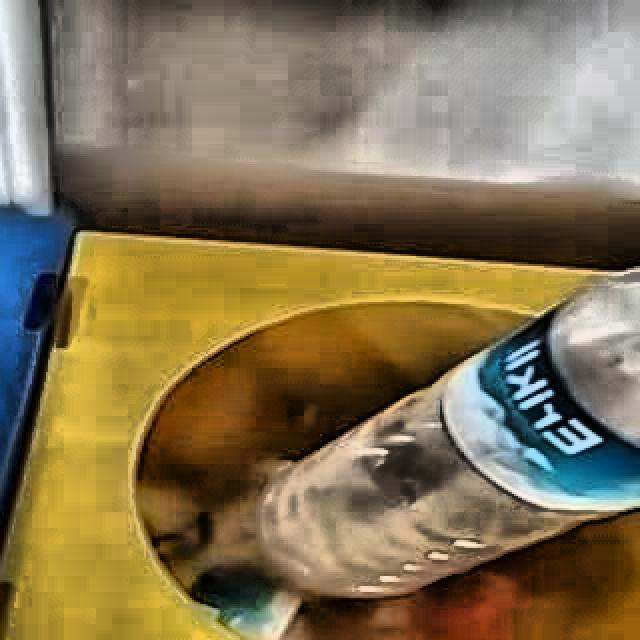plastic: (253, 271, 640, 598)
